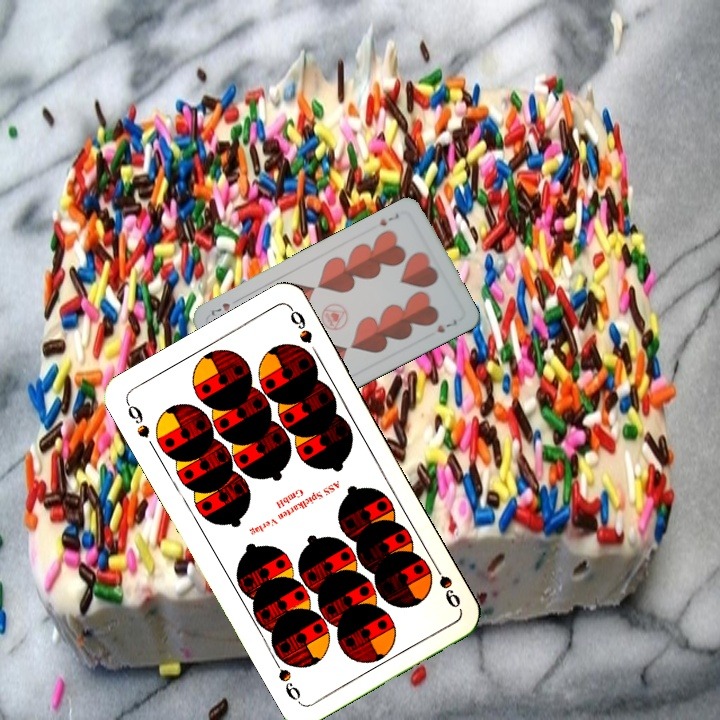H7: (376, 209, 401, 229)
S9: (427, 557, 463, 611), (122, 398, 152, 441)
